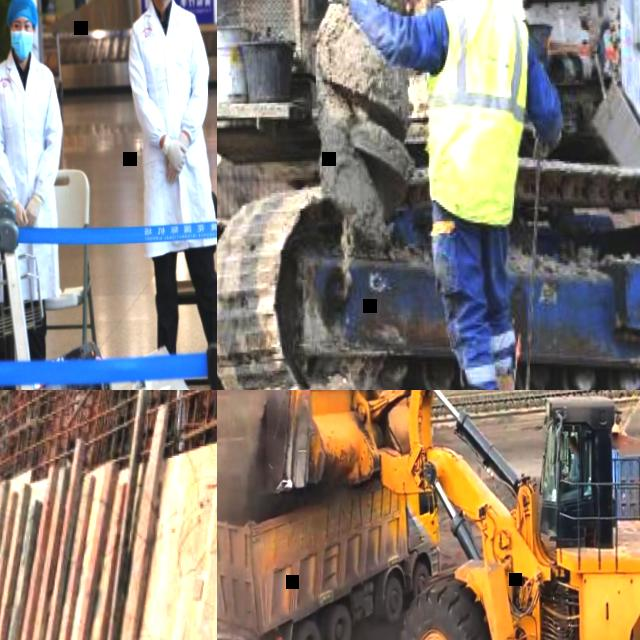Mask: (10, 28, 35, 61)
NO-Hardhat: (5, 0, 38, 20), (570, 433, 578, 444)
NO-Mask: (570, 446, 575, 453)
NO-Safety Vest: (137, 8, 206, 207), (0, 62, 57, 217), (569, 452, 581, 476)
Person: (308, 0, 572, 390), (123, 0, 217, 390), (0, 0, 72, 390), (559, 432, 582, 489)
Safety Vest: (419, 0, 536, 224)
vehicle: (217, 0, 640, 390), (244, 390, 640, 640), (217, 433, 445, 640), (551, 400, 640, 529)
